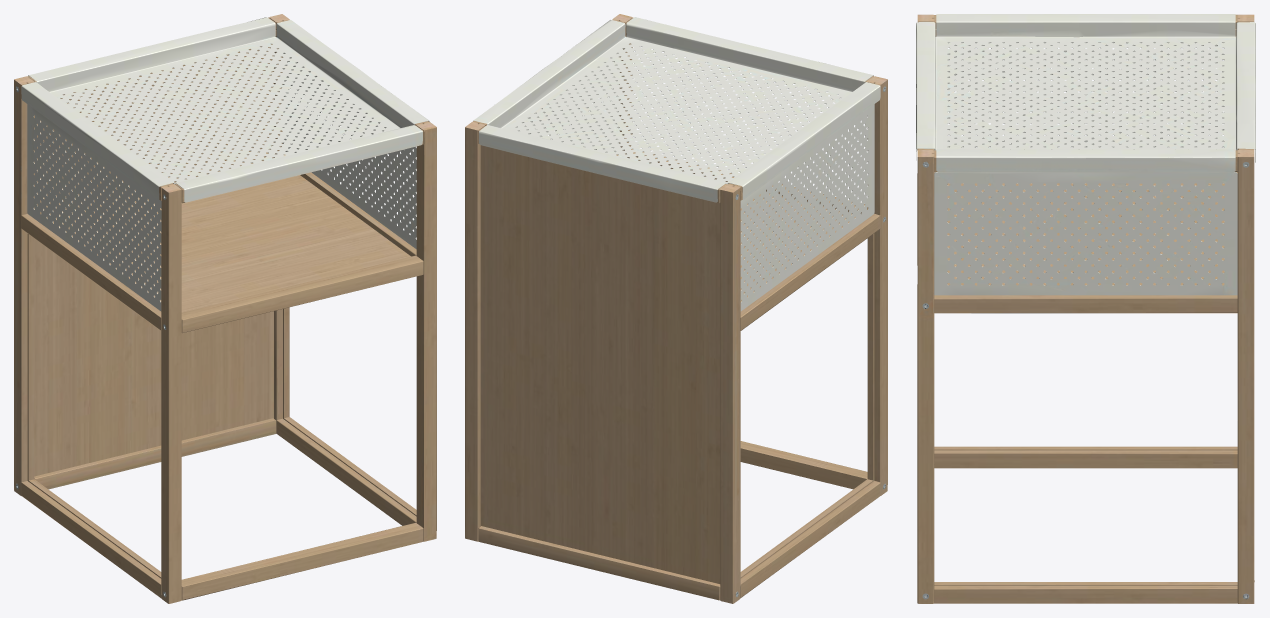
3 views of the same model, side by side, from view 1: azimuth 30°, elevation 25°; view 2: azimuth 150°, elevation 25°; view 3: azimuth 270°, elevation 25° (orthographic). The views are drawn at different scales.
Parts seen in each view (by area): view 1: ASY_ART_30608983_S01_NV01; view 2: ASY_ART_30608983_S01_NV01; view 3: ASY_ART_30608983_S01_NV01.
Boxes of the visible parts, <box> form: ASY_ART_30608983_S01_NV01: <box>14,14,436,603</box>; ASY_ART_30608983_S01_NV01: <box>465,14,887,603</box>; ASY_ART_30608983_S01_NV01: <box>916,14,1255,603</box>.
Bounding box in the file's own units: 0.3853 × 0.5634 × 0.3853.
Materials: 2 (2 with a texture image).
